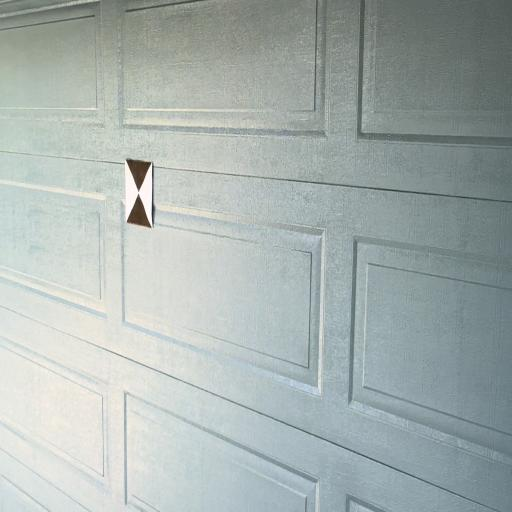target: (125, 160, 154, 227)
